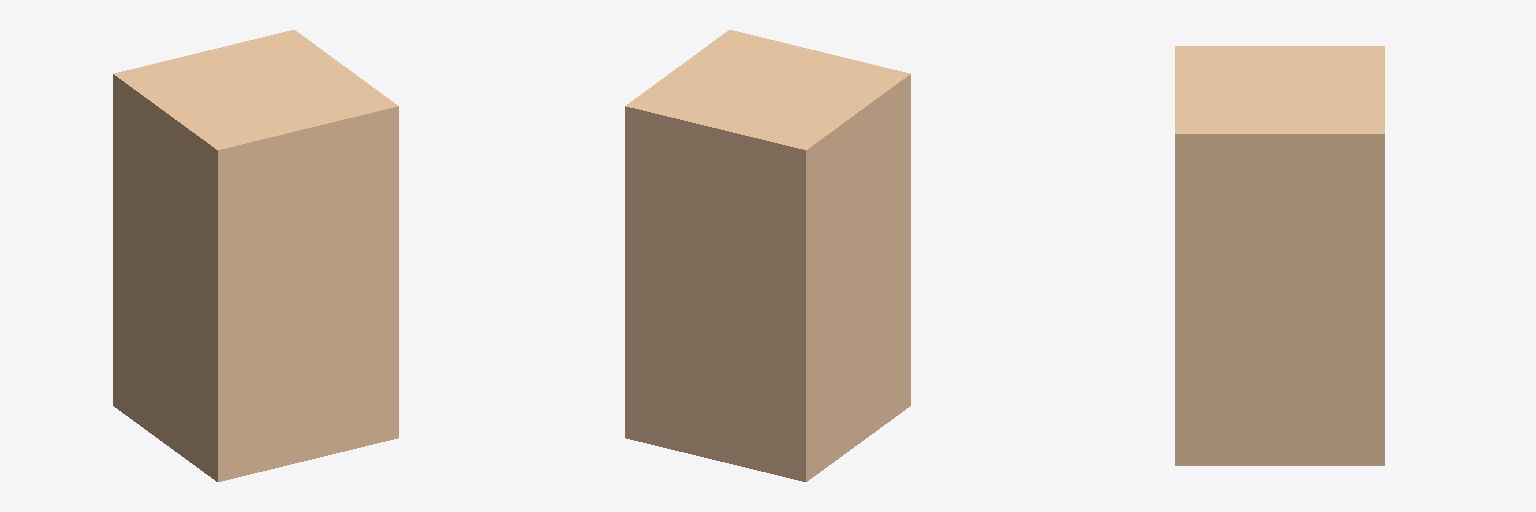
The picture shows the model from 3 angles: view 1: azimuth 30°, elevation 25°; view 2: azimuth 150°, elevation 25°; view 3: azimuth 270°, elevation 25°; orthographic projection.
Visible parts, largest first — view 1: Cube.002; view 2: Cube.002; view 3: Cube.002.
Part boxes in pixels (bbox=[...]): Cube.002: bbox=[113, 30, 398, 481]; Cube.002: bbox=[625, 30, 910, 481]; Cube.002: bbox=[1175, 46, 1384, 465].
Size of the model in its own units: 1 by 1.75 by 1.
1 materials, 1 textured.